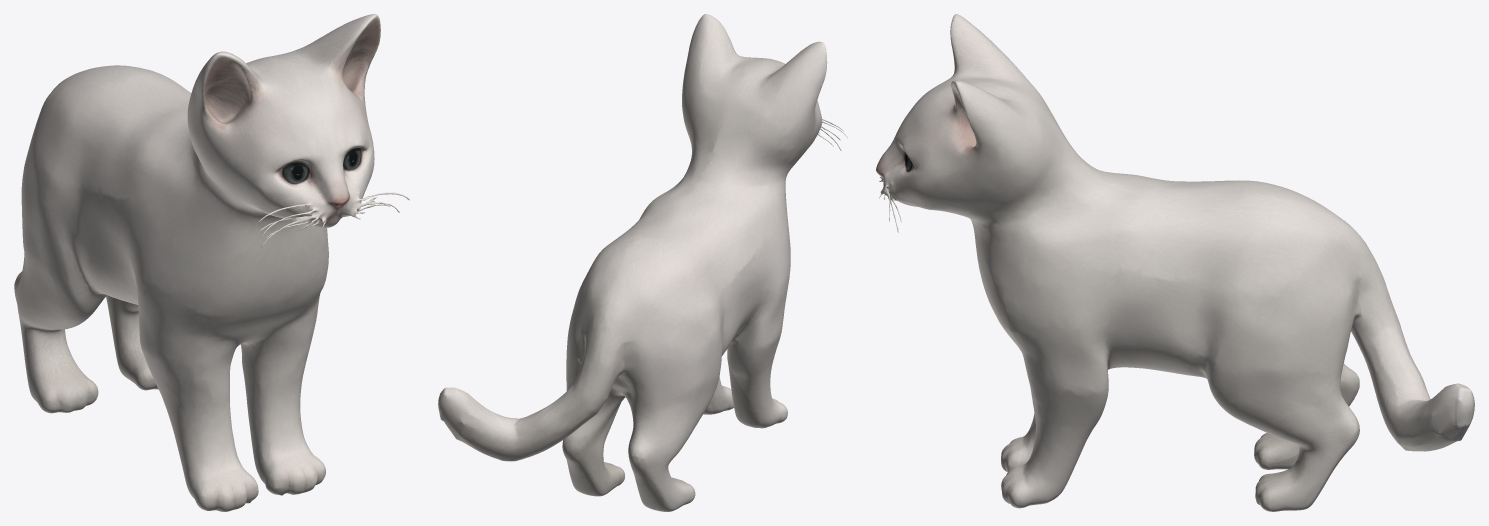
Rendered from snowdrop-source.glb.
The picture shows the model from 3 angles, left to right: view 1: azimuth 30°, elevation 25°; view 2: azimuth 150°, elevation 25°; view 3: azimuth 270°, elevation 25°; orthographic projection. The views are drawn at different scales.
Bounding box in the file's own units: 0.8151 × 1.53 × 1.9.
1 material, 1 textured.
